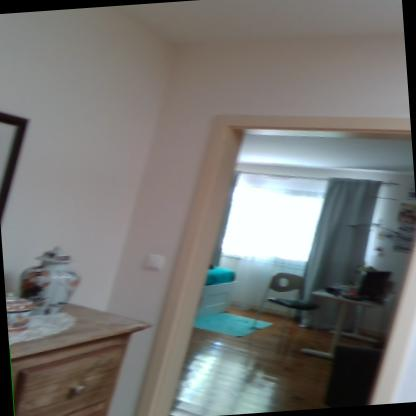open: (113, 85, 415, 415)
